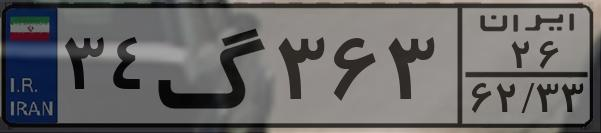2: (508, 27, 537, 80), (495, 70, 520, 125)
3: (270, 28, 330, 110), (385, 28, 445, 110), (57, 26, 110, 100), (560, 70, 590, 125), (535, 70, 560, 125)
4: (110, 28, 156, 98)
6: (330, 28, 385, 110), (537, 27, 568, 80), (470, 70, 495, 125)
گ: (156, 12, 270, 120)
